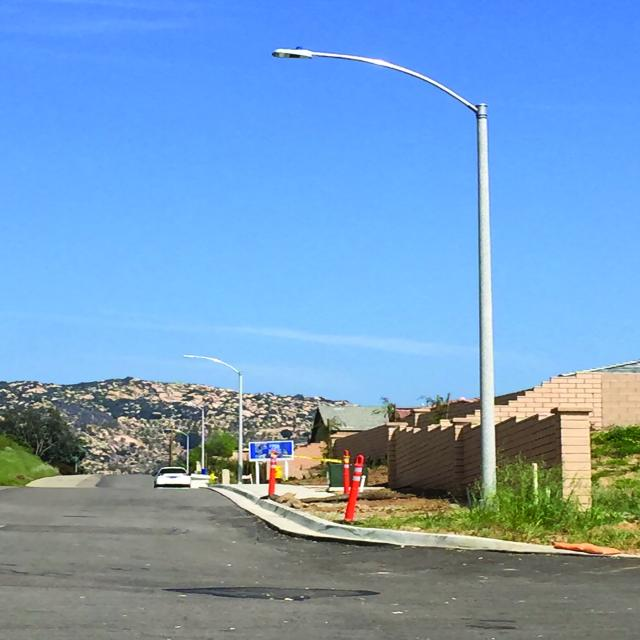Electric pole: (272, 47, 496, 501), (183, 355, 243, 484)
